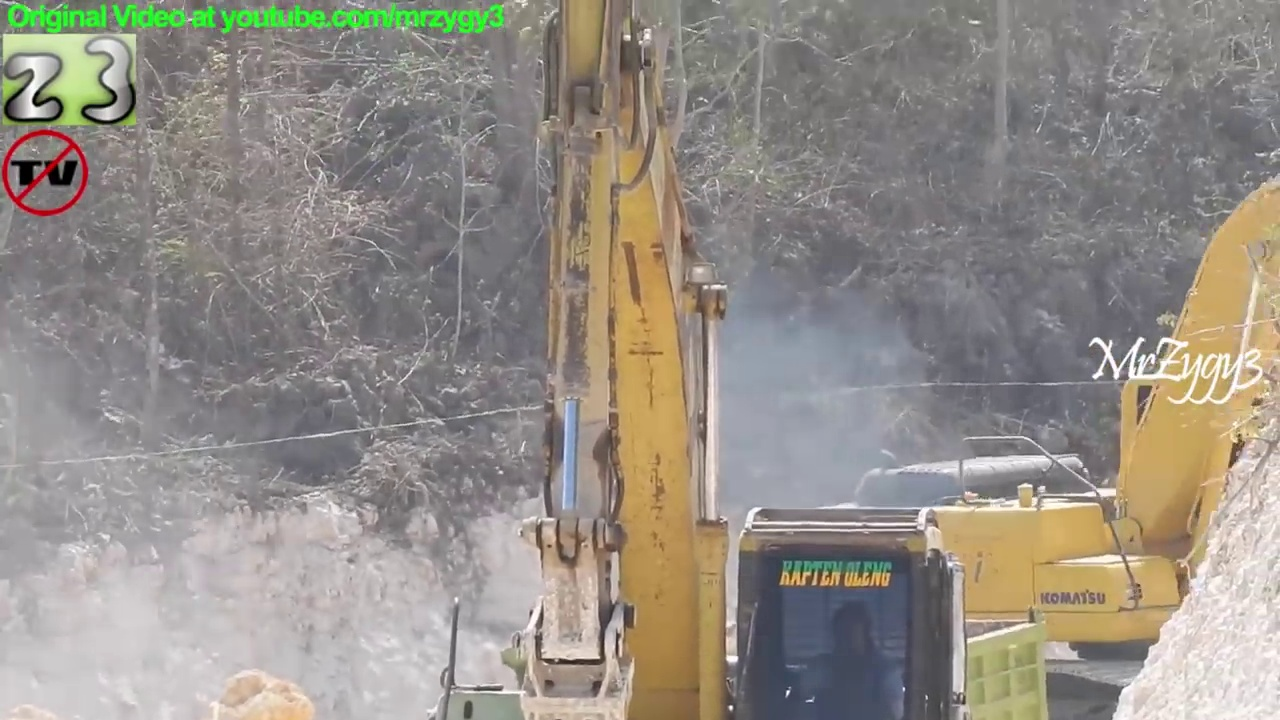excavator: (486, 1, 974, 720), (778, 165, 1280, 720)
truck: (491, 602, 1061, 720)
